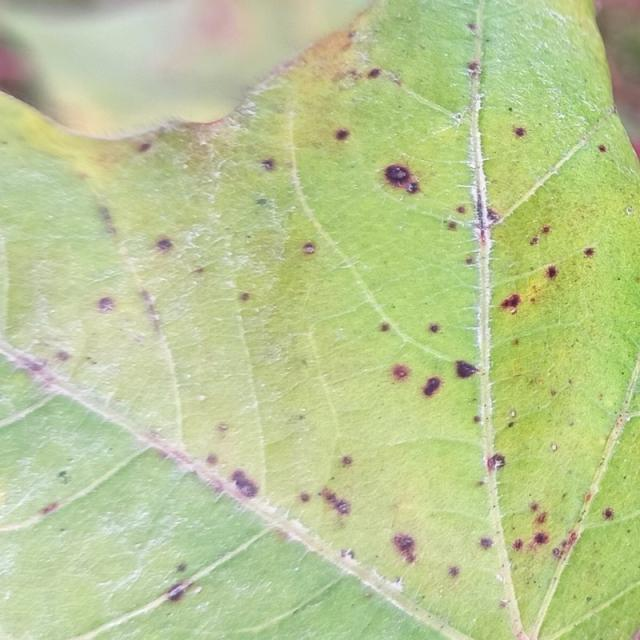Bacterial_Blight: (494, 250, 576, 322), (88, 277, 187, 334), (299, 471, 355, 524), (7, 349, 72, 394), (444, 201, 488, 245), (380, 156, 420, 199), (228, 468, 259, 498), (391, 531, 419, 563), (551, 529, 579, 560), (12, 352, 49, 374), (97, 204, 117, 235), (166, 581, 194, 602), (528, 224, 553, 247), (499, 292, 522, 315), (201, 473, 225, 495), (454, 359, 479, 379), (421, 376, 442, 397), (486, 452, 506, 473), (96, 296, 116, 313), (391, 364, 410, 381), (154, 236, 174, 252), (39, 501, 59, 516), (333, 127, 351, 141), (486, 207, 501, 223), (260, 157, 276, 171), (467, 60, 481, 75), (57, 470, 71, 484), (534, 511, 547, 526), (534, 532, 548, 545), (479, 536, 493, 549), (602, 507, 615, 520), (546, 265, 558, 279), (513, 126, 526, 138), (340, 455, 353, 467), (367, 68, 381, 79), (138, 142, 152, 153), (56, 350, 70, 361), (448, 565, 460, 577), (206, 453, 218, 465), (583, 246, 596, 257), (468, 22, 479, 34), (512, 539, 523, 551), (302, 244, 315, 254), (255, 197, 268, 207), (529, 502, 540, 513), (378, 322, 390, 332), (239, 292, 251, 302), (552, 547, 562, 558), (299, 492, 310, 502), (176, 562, 187, 572), (429, 324, 441, 333), (192, 266, 204, 275), (217, 422, 229, 431), (584, 492, 593, 504), (597, 144, 607, 153), (447, 221, 457, 230), (625, 206, 635, 215), (530, 237, 539, 246), (542, 225, 551, 234), (499, 600, 508, 609), (456, 206, 466, 214), (508, 420, 516, 428), (473, 415, 481, 423), (550, 388, 557, 396)
Cotton: (0, 0, 639, 639)
